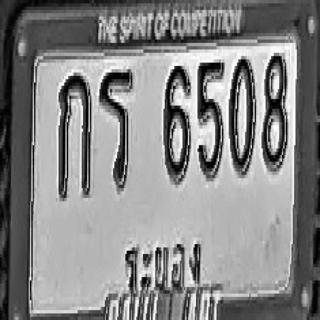A01: (58, 71, 91, 200)
A35: (99, 68, 133, 190)
N00: (229, 56, 255, 175)
N05: (197, 59, 224, 178)
N06: (164, 63, 190, 181)
N08: (262, 51, 287, 170)
P53: (118, 231, 207, 292)
